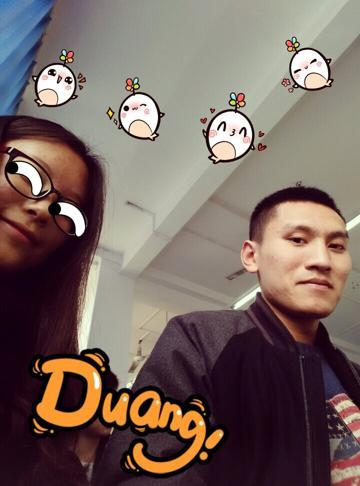goods.clothes: (115, 320, 358, 485)
goods.glass: (1, 143, 95, 239)
other.sticker: (29, 349, 226, 475), (101, 80, 169, 144), (198, 101, 266, 165), (269, 34, 337, 98), (24, 48, 93, 109)
person.body: (124, 167, 359, 483)
person.face: (1, 126, 101, 282), (239, 190, 354, 324)
